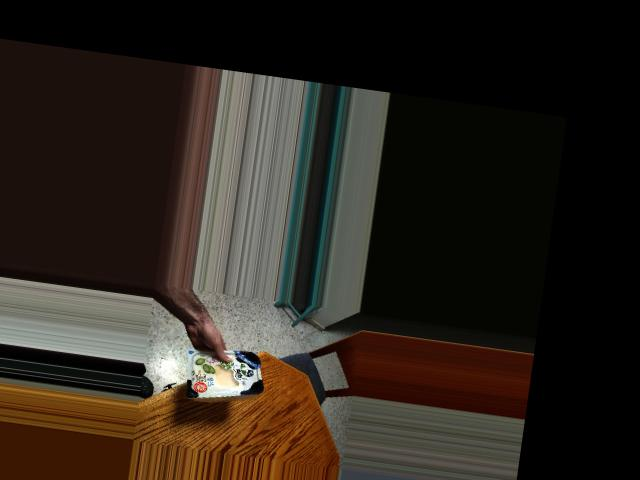cheese: (196, 338, 260, 406)
